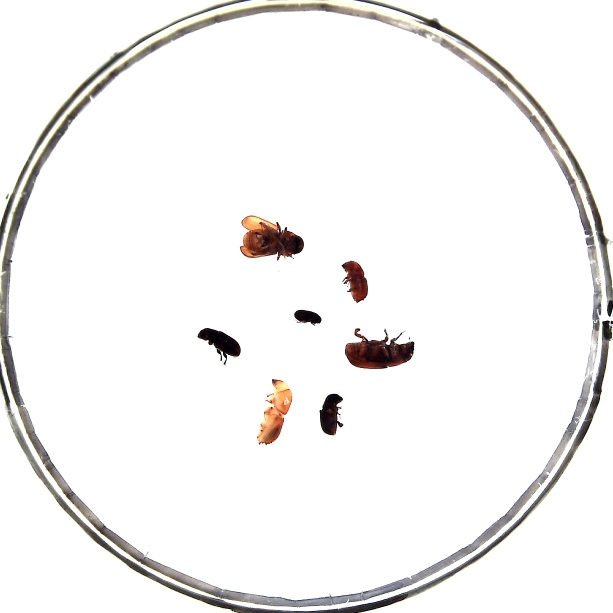armandi: (198, 328, 240, 357), (320, 393, 342, 435)
boerner: (256, 379, 292, 445)
coleoptera: (294, 309, 321, 324)
leconte: (239, 215, 304, 258), (344, 339, 414, 369)
linnaeus: (342, 260, 368, 303)
